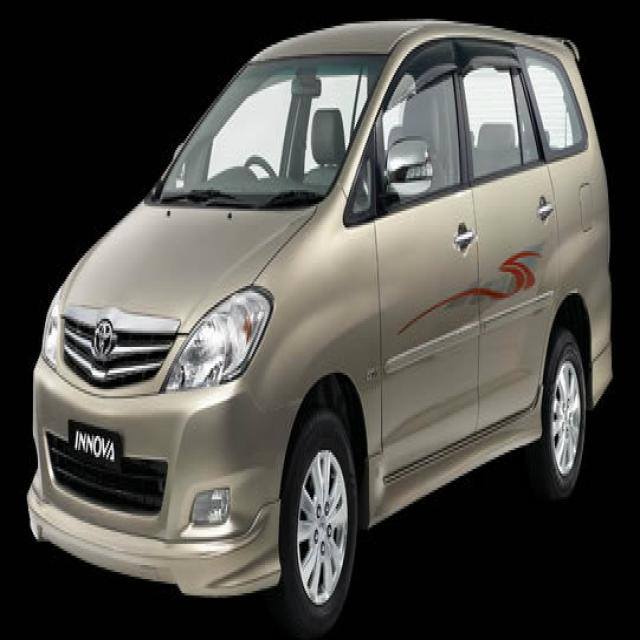light_vehicle: (27, 19, 615, 630)
